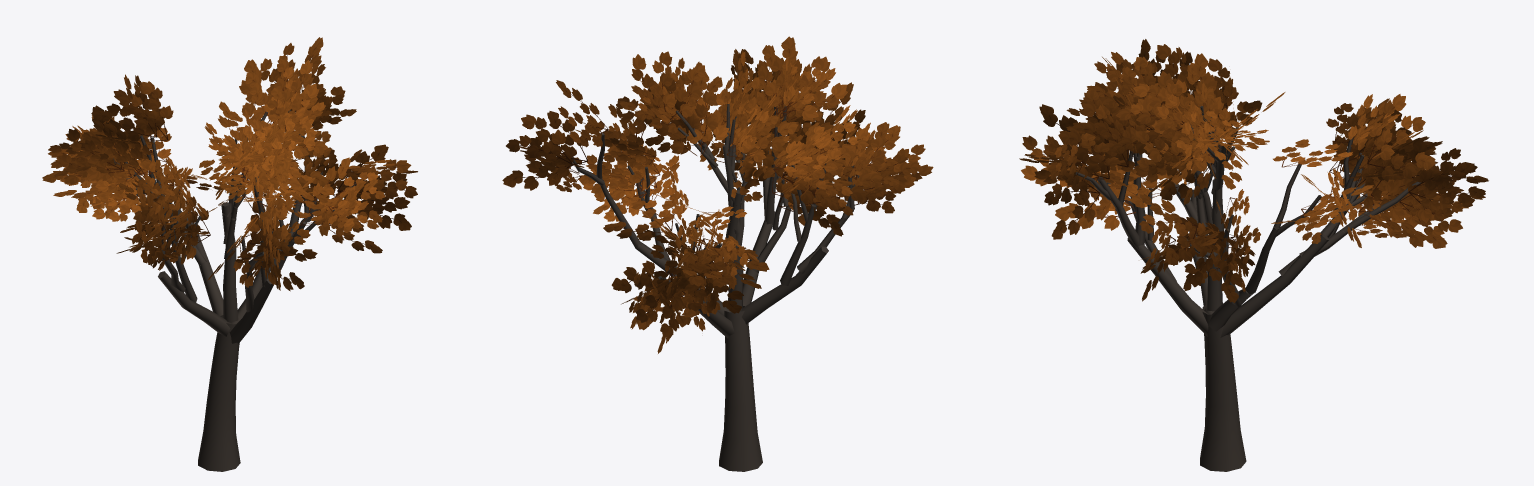
File: maple_autumn_1_burnt2.glb
3 renders of one model, left to right at view 1: azimuth 30°, elevation 25°; view 2: azimuth 150°, elevation 25°; view 3: azimuth 270°, elevation 25°, orthographic. The views are drawn at different scales.
Visible parts, largest first — view 1: maple_autumn_1_burnt2; view 2: maple_autumn_1_burnt2; view 3: maple_autumn_1_burnt2.
Part boxes in pixels (x1,y1,x2,y2): maple_autumn_1_burnt2: (42,37,417,471); maple_autumn_1_burnt2: (502,36,933,471); maple_autumn_1_burnt2: (1019,39,1488,471).
Size of the model in its own units: 8.08 by 9.02 by 9.68.
Materials: 2 (1 with a texture image).
